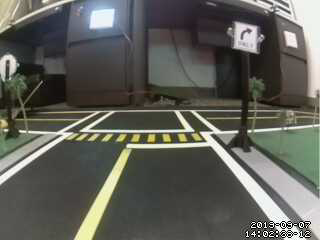Right_only_sign: (230, 19, 262, 55)
